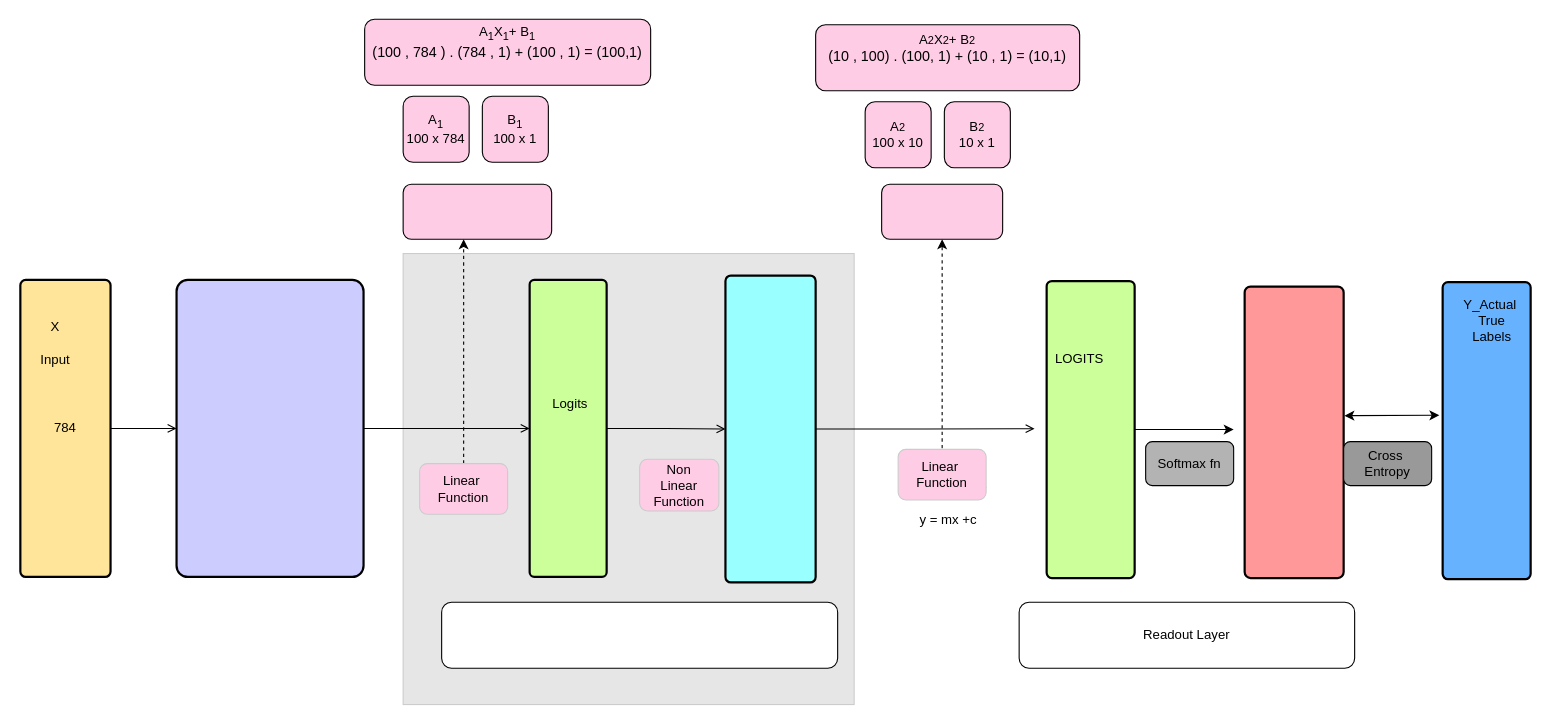
Some shapes in this 1550 by 724 pixel diagram are drawn without their labels. The shapes that lost their labels are listed below. From the top down, each one's centre as x and y in pixels, then its label:
At (x=477, y=211): "A 1 X 1 + B 1".
At (x=942, y=211): "A 2 X 2 + B 2".
At (x=269, y=428): "Convolution and Pooling".
At (x=770, y=428): "Non Linear Output".
At (x=1293, y=432): "Softmax".
At (x=639, y=634): "Fully Connected Layer".
